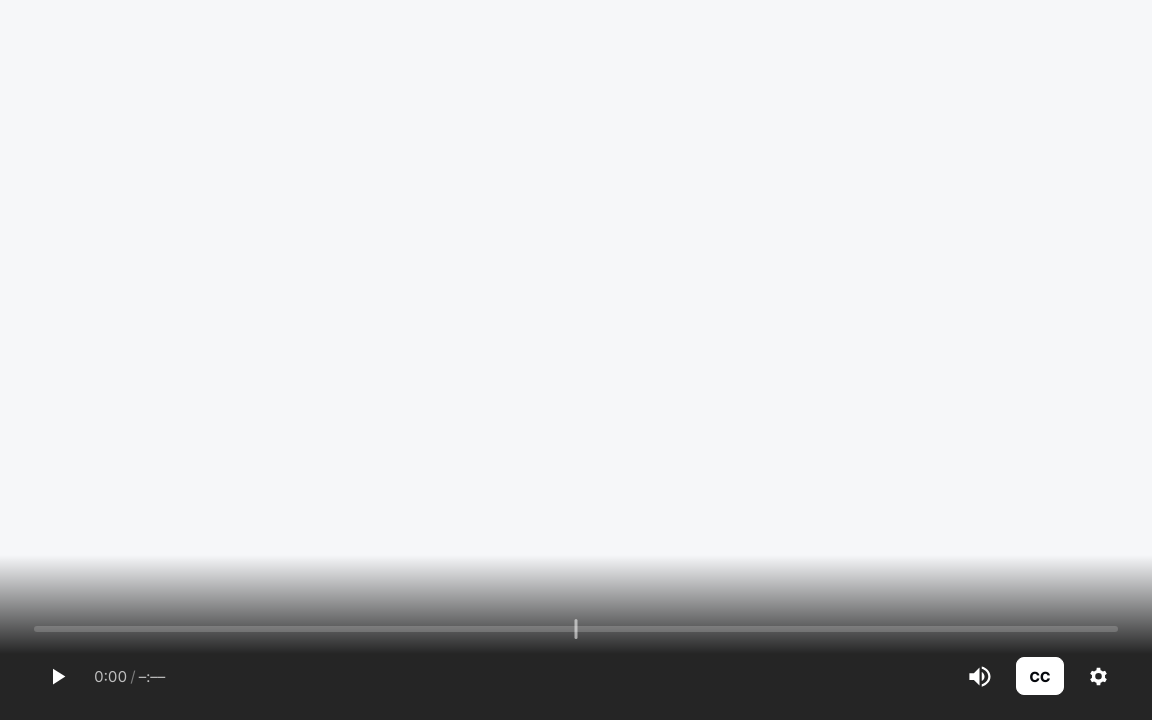
it: caption-settings panel vs. the seek bar (owner report 1) › paints ABOVE every positioned part of the progress bar it overlaps
This screenshot has width=1152, height=720.
Click the button named "Caption settings": click(1098, 676) [1078, 656, 1118, 696]
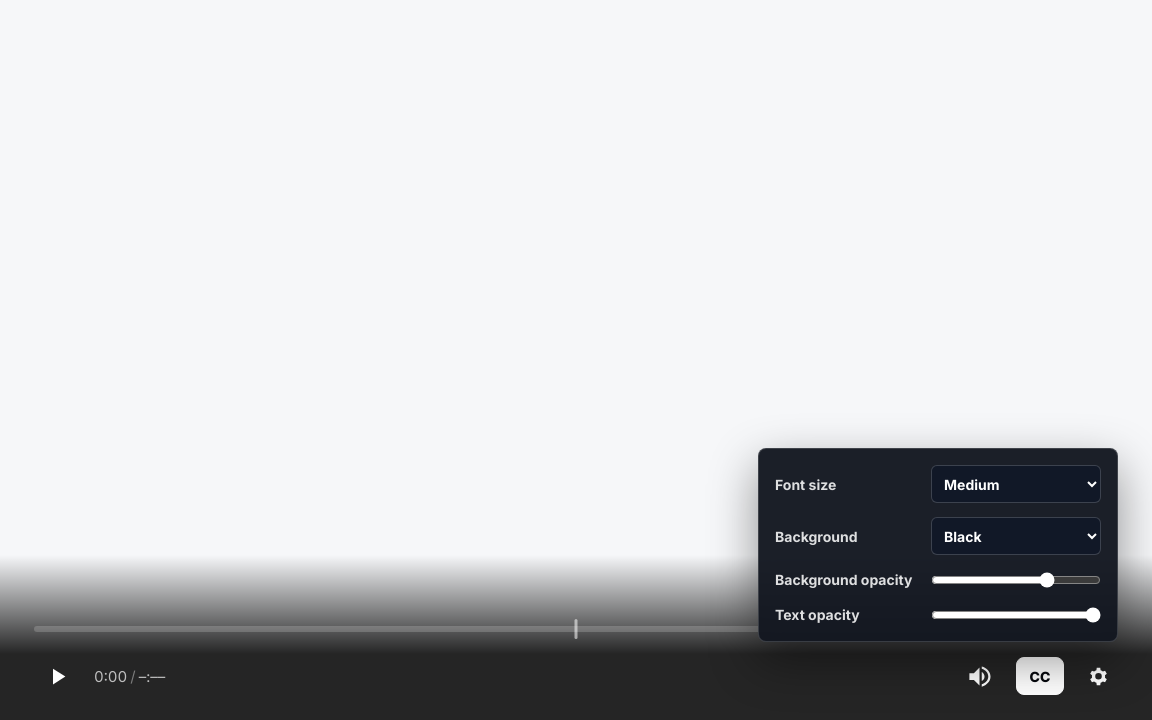
Expected: the element showing "Font size Background Background opacity Text opacity" is shown, [758, 448, 1118, 642]
